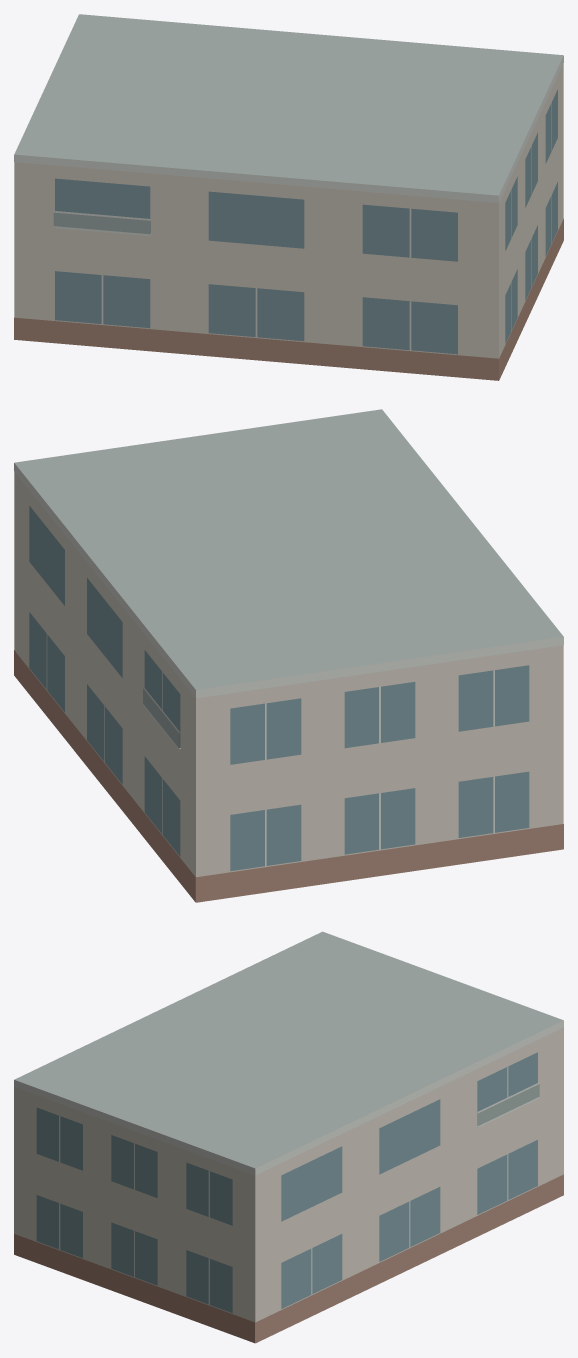
File: survey-upis-32709087.glb
The picture shows the model from 3 angles, top to bottom: view 1: azimuth 30°, elevation 25°; view 2: azimuth 150°, elevation 25°; view 3: azimuth 270°, elevation 25°; orthographic projection. The views are drawn at different scales.
Parts seen in each view (by area): view 1: survey-upis-32709087.tmp; view 2: survey-upis-32709087.tmp; view 3: survey-upis-32709087.tmp.
Part boxes in pixels (x1,y1,x2,y2): survey-upis-32709087.tmp: (14,14,563,380); survey-upis-32709087.tmp: (14,409,563,902); survey-upis-32709087.tmp: (14,931,563,1343).
Bounding box in the file's own units: 17.73 × 6.1 × 17.38.
